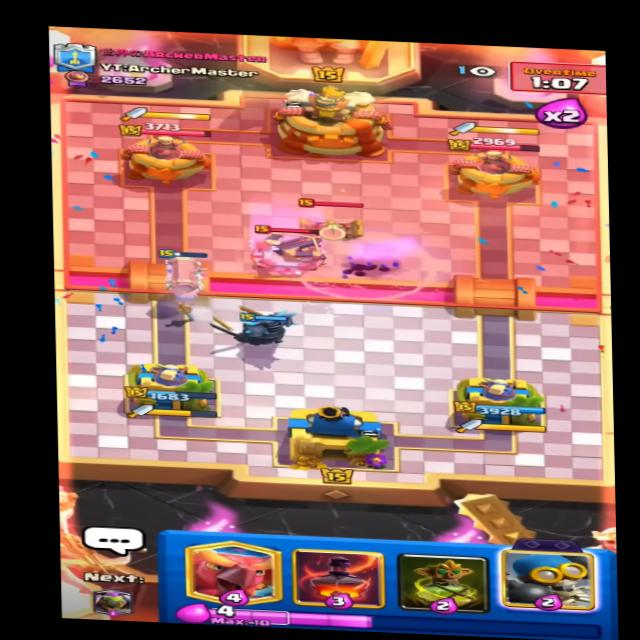tesla: (298, 198, 369, 242)
x-bow: (239, 222, 329, 277)
